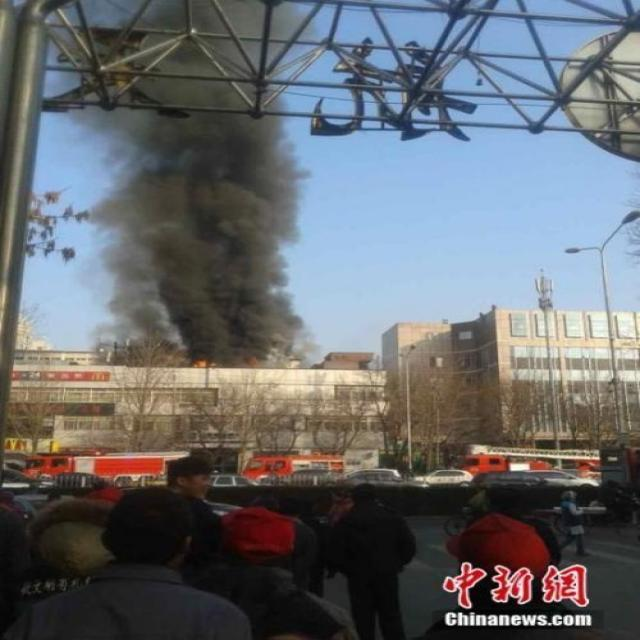Fire: (244, 354, 262, 368), (189, 358, 213, 368)
Smoke: (50, 0, 324, 366)
